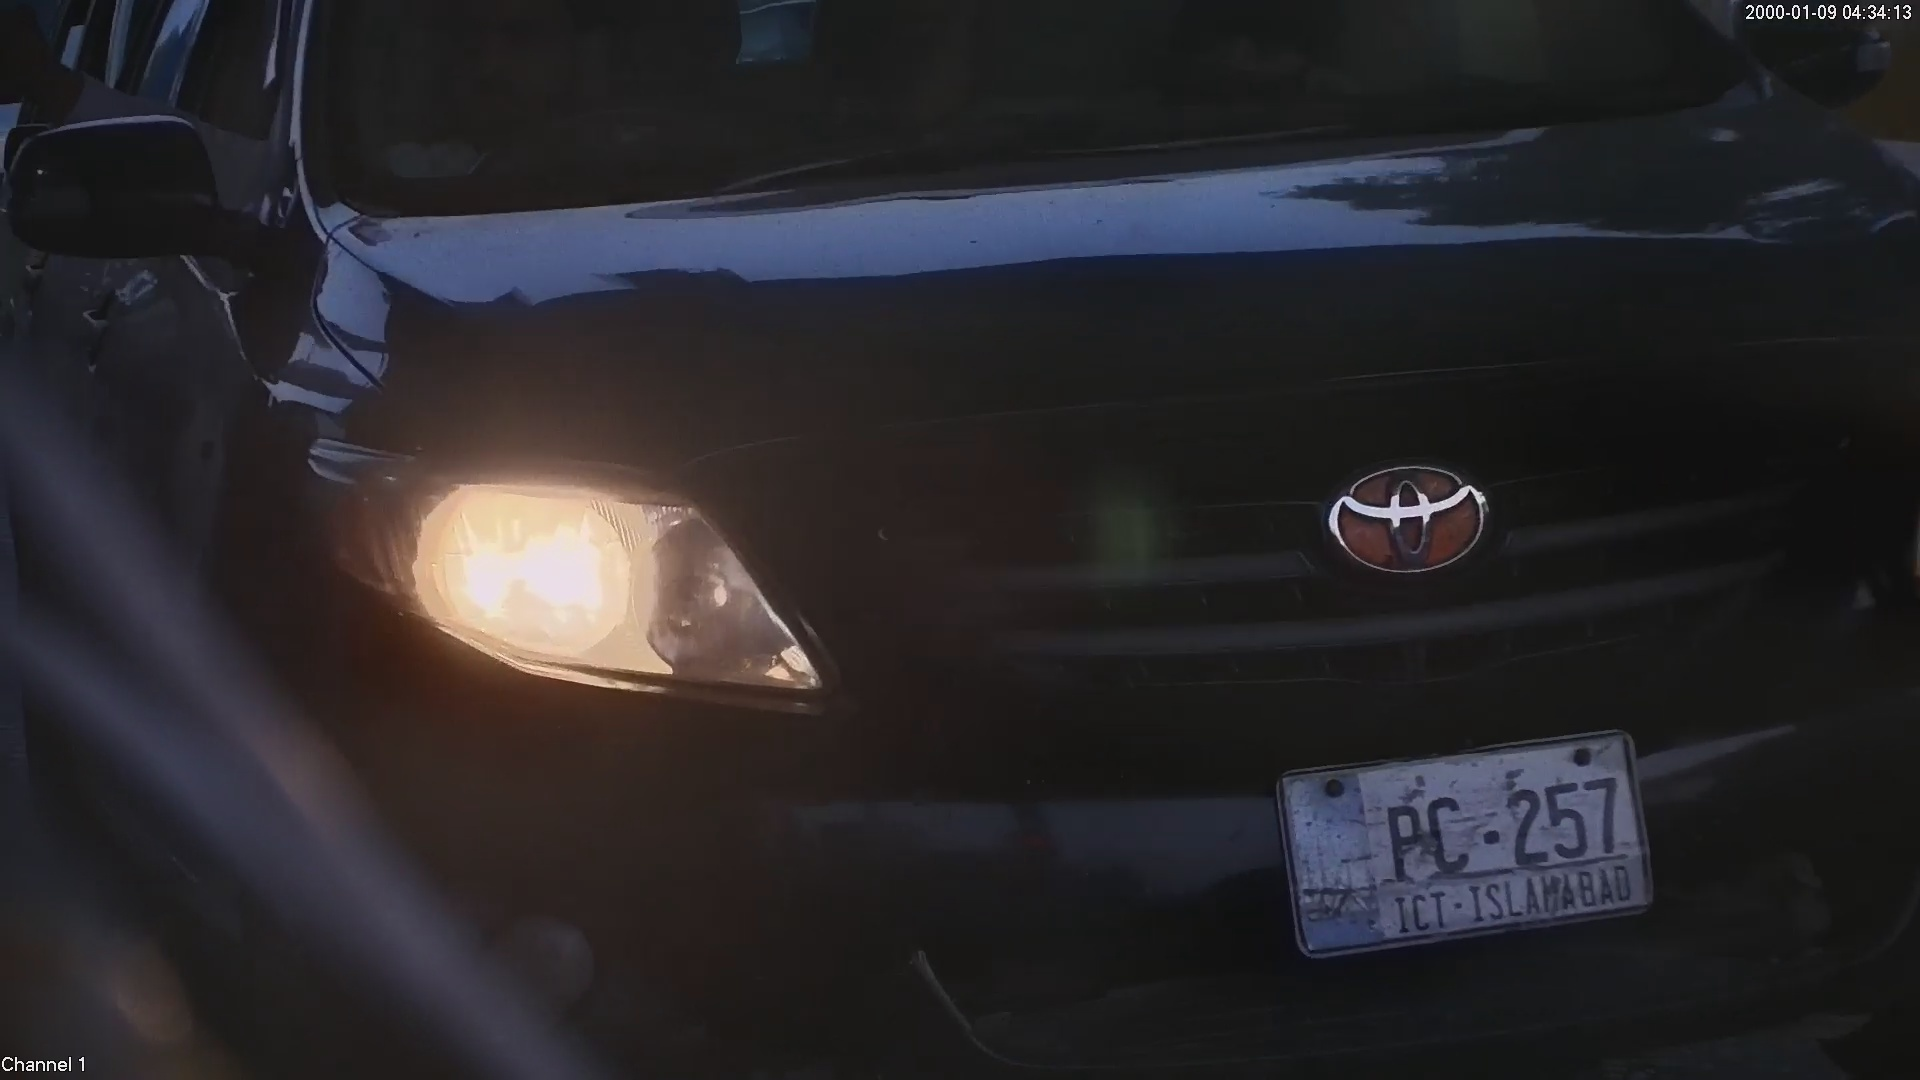Number_Plate: (1273, 718, 1658, 944)
Undefined: (352, 455, 765, 690), (1330, 455, 1491, 579)
